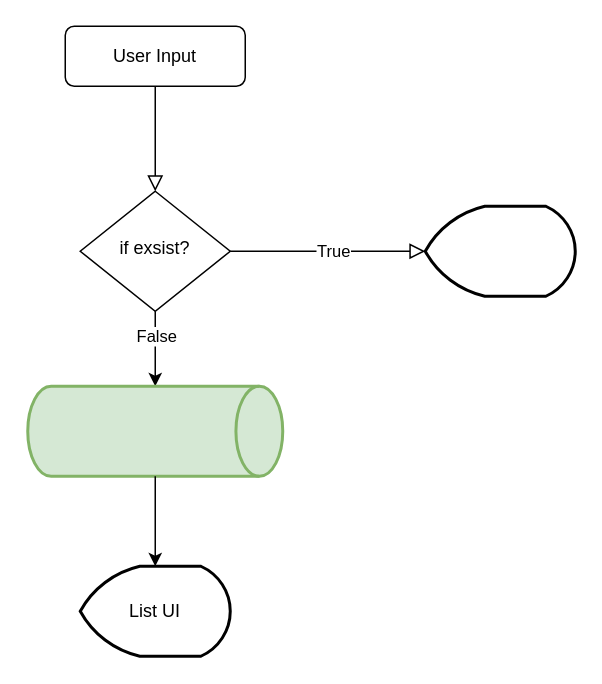
Some shapes in this 602 by 684 pixel diagram are drawn without their labels. Here are the shapes that lost their labels. From the top down, the box of each, then its label:
(423, 204, 576, 297): Already exisit
(26, 384, 284, 477): Local Storage Data
